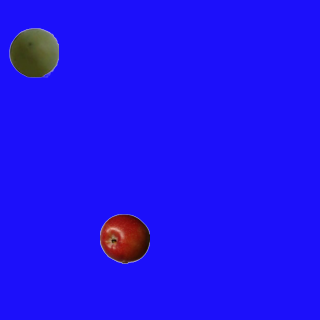Apple Braeburn: (99, 213, 149, 263)
Grape White 4: (8, 27, 58, 77)
